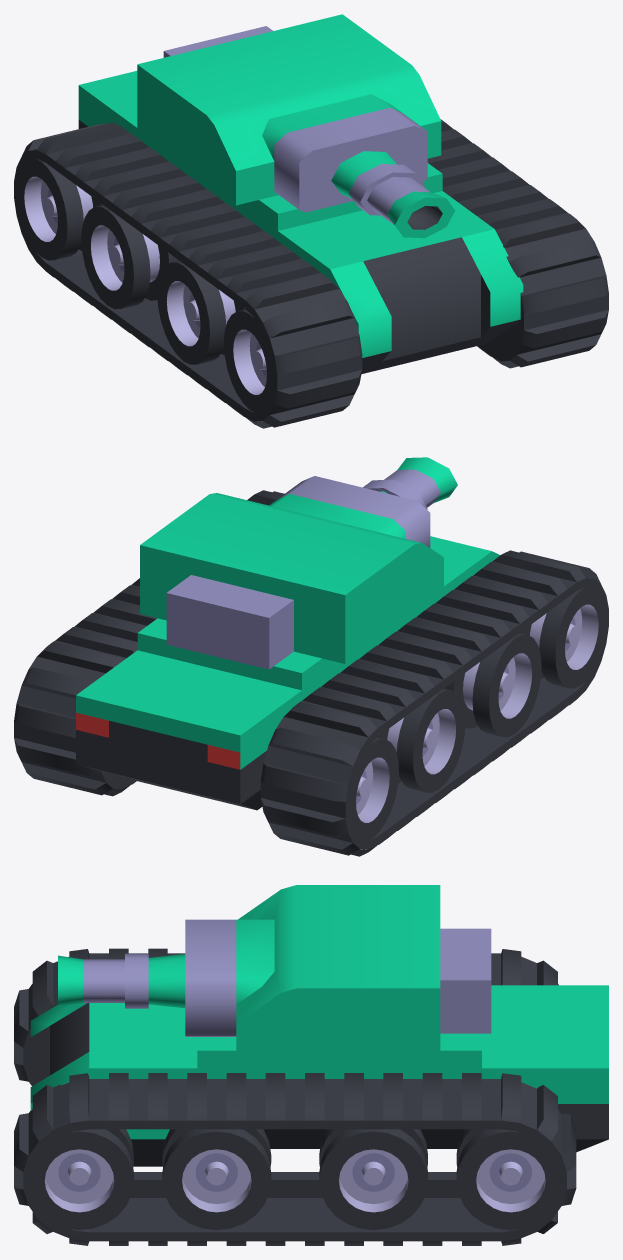
Rendered from tankascii.fbx.
The picture shows the model from 3 angles, top to bottom: view 1: azimuth 30°, elevation 25°; view 2: azimuth 150°, elevation 25°; view 3: azimuth 270°, elevation 25°; orthographic projection. The views are drawn at different scales.
Visible parts, largest first — view 1: track_wideSmoothSide (×3), tank_turretBlock, body_frontTank, wheel_tank (×4), tank_turretBarrelLarge, track_wideSmoothCenter (×2), body_standard, body_backSolid; view 2: track_wideSmoothSide (×3), tank_turretBlock, body_backSolid, wheel_tank (×4), track_wideSmoothCenter (×2), tank_turretBarrelLarge, body_standard, body_frontTank; view 3: tank_turretBlock, track_wideSmoothSide (×4), wheel_tank (×4), track_wideSmoothCenter, body_backSolid, body_frontTank, tank_turretBarrelLarge, body_standard.
Part boxes in pixels (x1,y1,x2,y2): track_wideSmoothSide (×3): (14,122,608,428); tank_turretBlock: (137,14,441,205); body_frontTank: (278,191,523,374); wheel_tank (×4): (15,159,275,413); tank_turretBarrelLarge: (274,107,455,238); track_wideSmoothCenter (×2): (98,119,515,383); body_standard: (140,135,442,240); body_backSolid: (78,71,144,142); track_wideSmoothSide (×3): (14,550,608,856); tank_turretBlock: (140,493,443,669); body_backSolid: (76,650,306,810); wheel_tank (×4): (346,586,607,840); track_wideSmoothCenter (×2): (107,578,524,812); tank_turretBarrelLarge: (278,457,457,547); body_standard: (137,595,439,700); body_frontTank: (430,536,499,598); tank_turretBlock: (236,885,491,1059); track_wideSmoothSide (×4): (14,948,576,1245); wheel_tank (×4): (25,1129,565,1230); track_wideSmoothCenter: (197,1073,393,1245); body_backSolid: (472,985,608,1152); body_frontTank: (30,1003,197,1166); tank_turretBarrelLarge: (58,919,236,1036); body_standard: (197,1033,481,1148).
Size of the model in its own units: 20.16 by 12.9 by 30.34.
